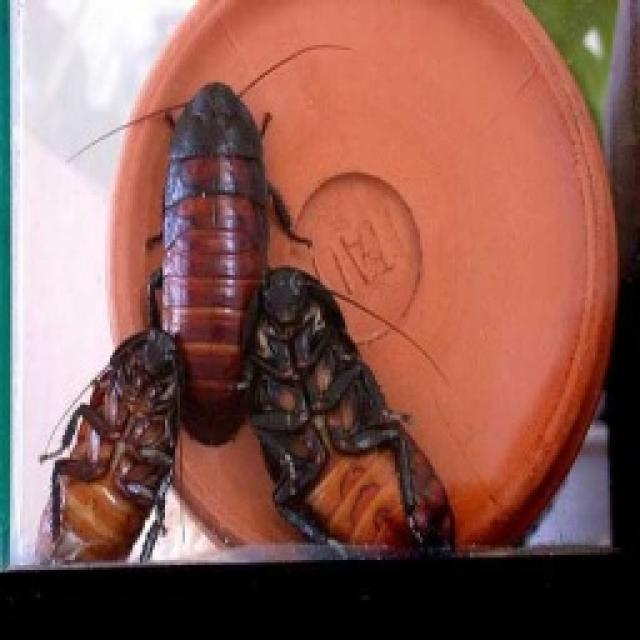cockroach: (37, 77, 460, 562)
